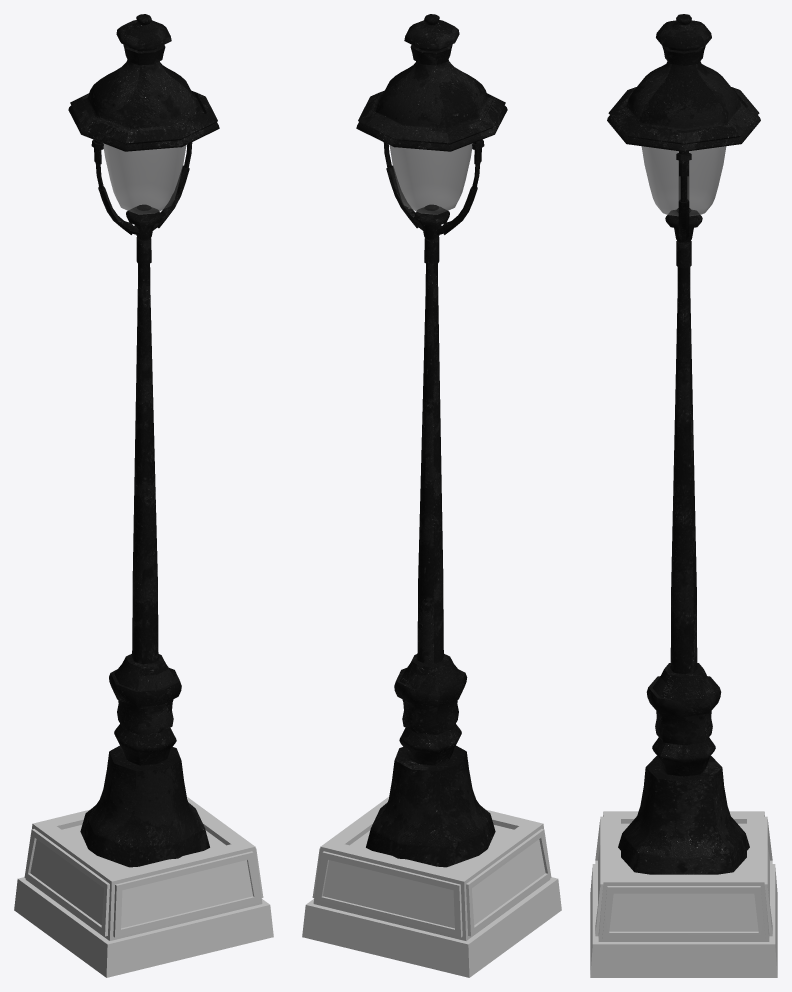
The model's file is lampara.obj.
3 renders of one model, left to right at view 1: azimuth 30°, elevation 25°; view 2: azimuth 150°, elevation 25°; view 3: azimuth 270°, elevation 25°, orthographic.
Parts seen in each view (by area): view 1: lamp11; view 2: lamp11; view 3: lamp11.
Boxes of the visible parts, x1,y1,x2,y2 form: lamp11: (14,14,273,977); lamp11: (302,14,561,977); lamp11: (590,14,777,977).
Size of the model in its own units: 0.23 by 1.19 by 0.22.
